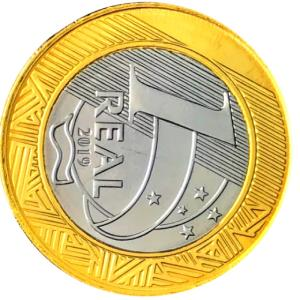1 real: (0, 1, 291, 296)
